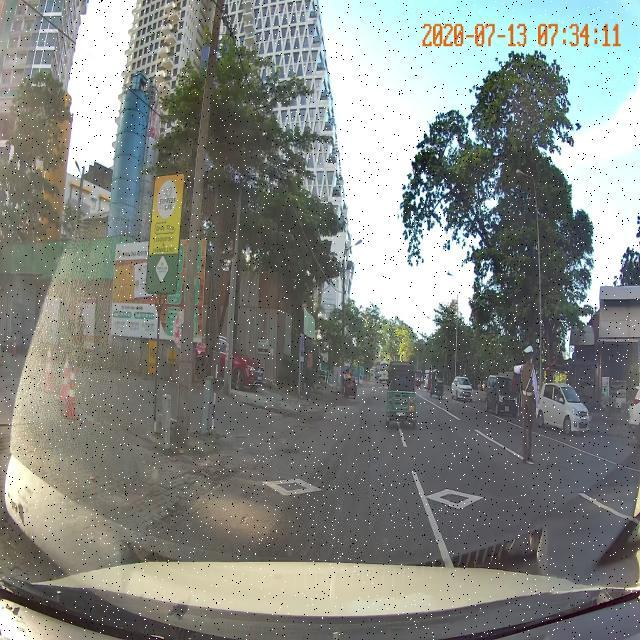diamond: (151, 457, 449, 554)
